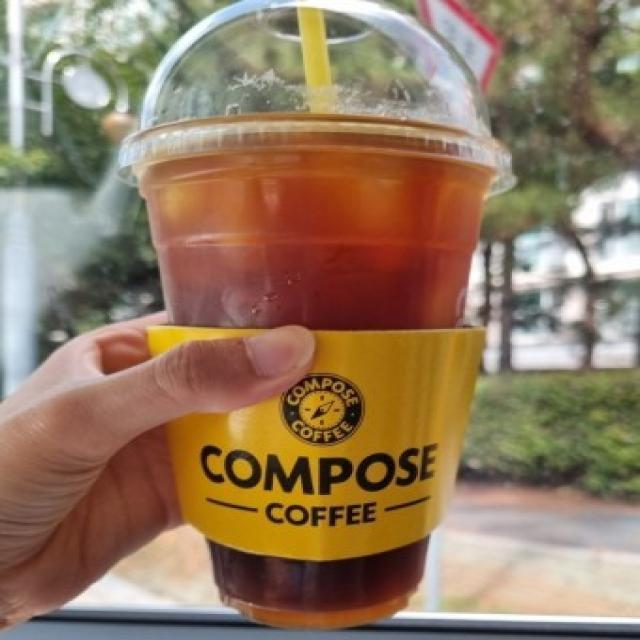cup: (111, 0, 514, 640)
